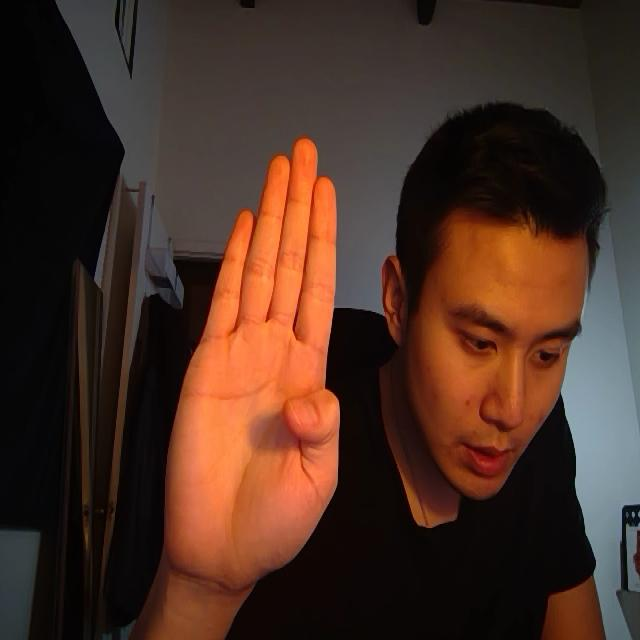B: (148, 80, 365, 618)
